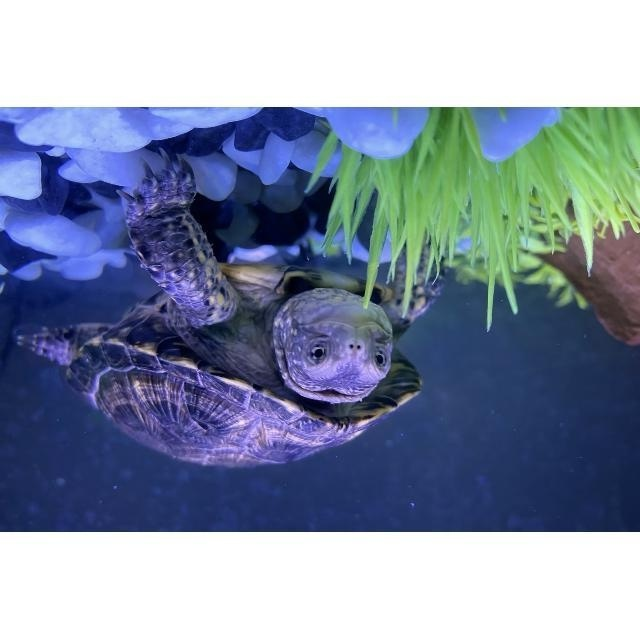turtle: (13, 153, 448, 466)
